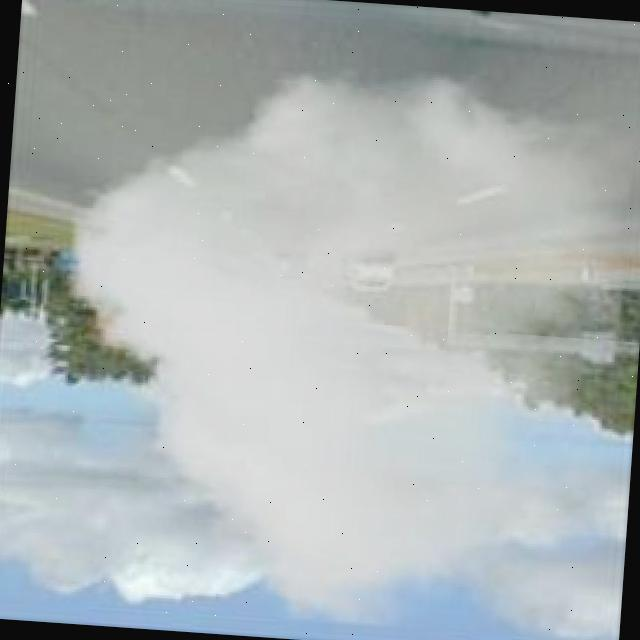smoke: (45, 48, 637, 640)
